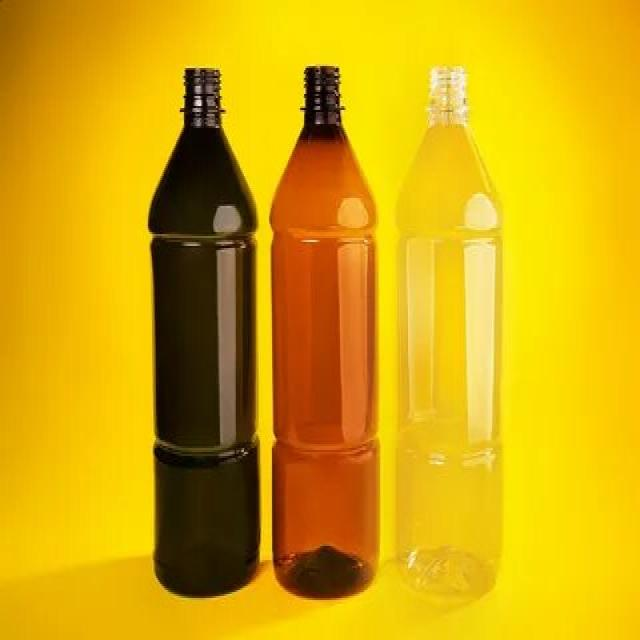brown: (147, 67, 259, 600), (270, 64, 380, 598)
